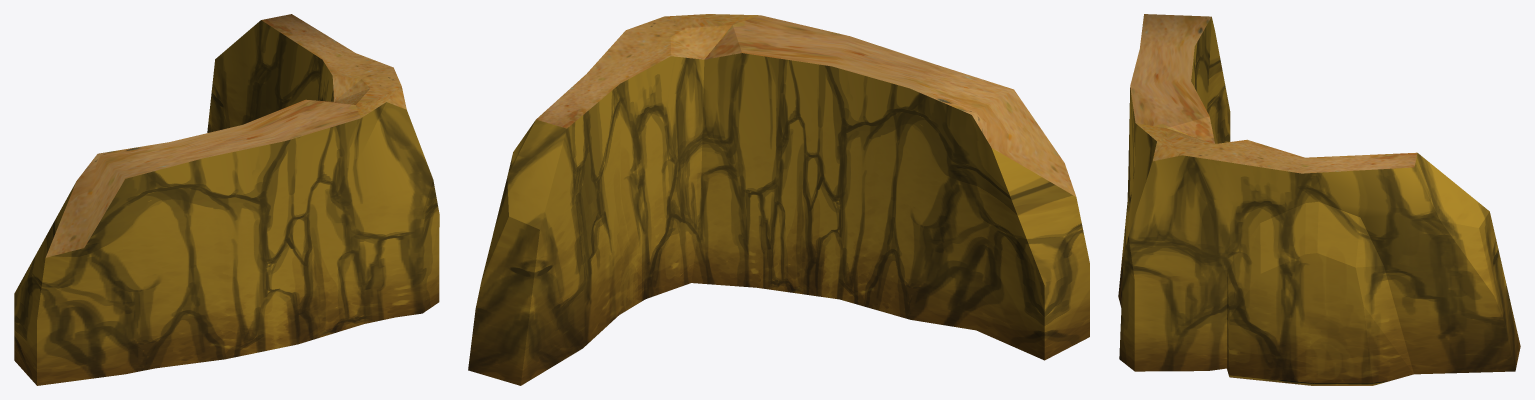
Rendered from 4by5 L Piece.FBX.
3 views of the same model, side by side, from view 1: azimuth 30°, elevation 25°; view 2: azimuth 150°, elevation 25°; view 3: azimuth 270°, elevation 25° (orthographic). The views are drawn at different scales.
Visible parts, largest first — view 1: 4by5 L Piece; view 2: 4by5 L Piece; view 3: 4by5 L Piece.
Boxes of the visible parts, <box> form: 4by5 L Piece: <box>14,14,439,385</box>; 4by5 L Piece: <box>468,14,1089,385</box>; 4by5 L Piece: <box>1118,14,1520,385</box>.
Size of the model in its own units: 453 by 224 by 379.
